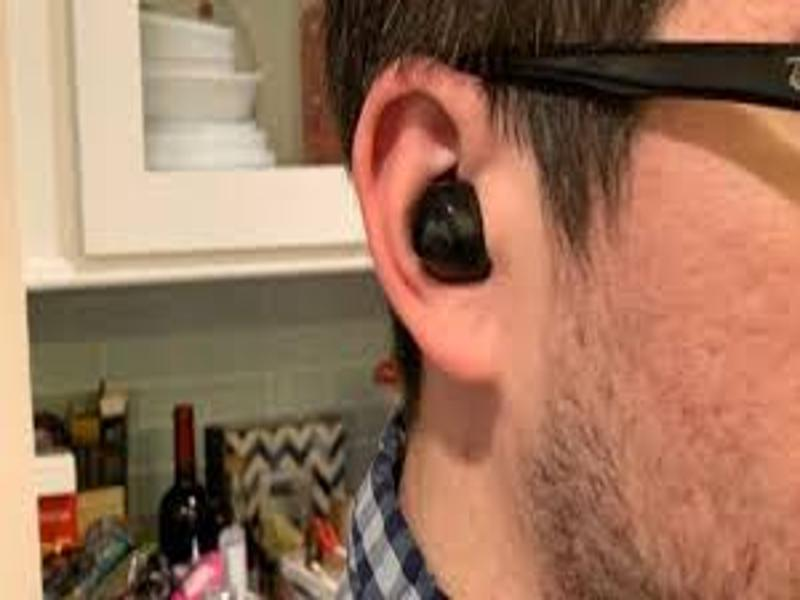headphone: (411, 179, 492, 280)
